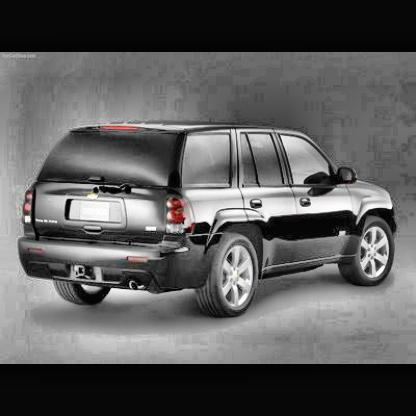Chevrolet TrailBlazer SS 2009: (18, 117, 400, 319)
